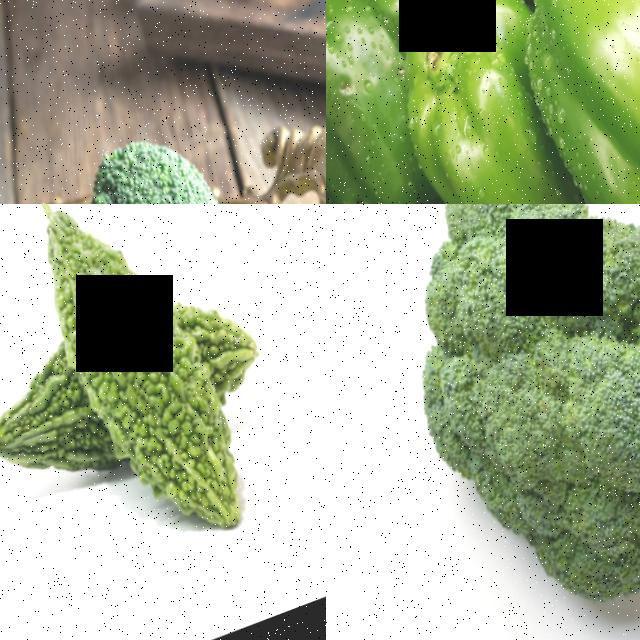bell pepper: (364, 0, 583, 204), (487, 0, 640, 204), (326, 0, 472, 204)
bitter gourd: (0, 204, 310, 567), (0, 315, 116, 508)
broccoli: (326, 204, 640, 640), (0, 118, 326, 204)
